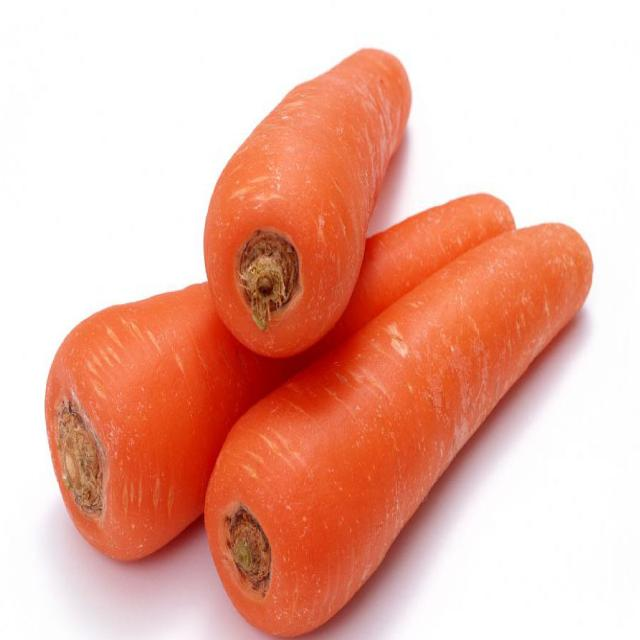Fresh_Carrot: (46, 196, 514, 557), (204, 225, 593, 635)
